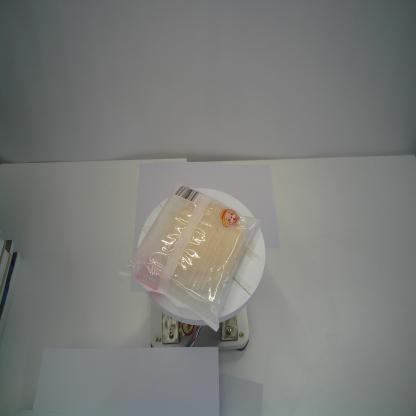Dessert: (116, 180, 262, 333)
